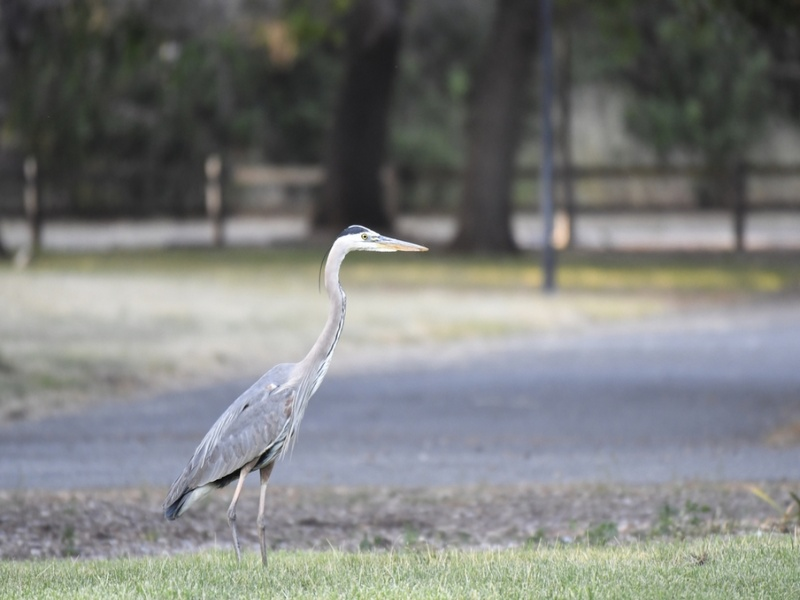heron: (166, 219, 430, 561)
